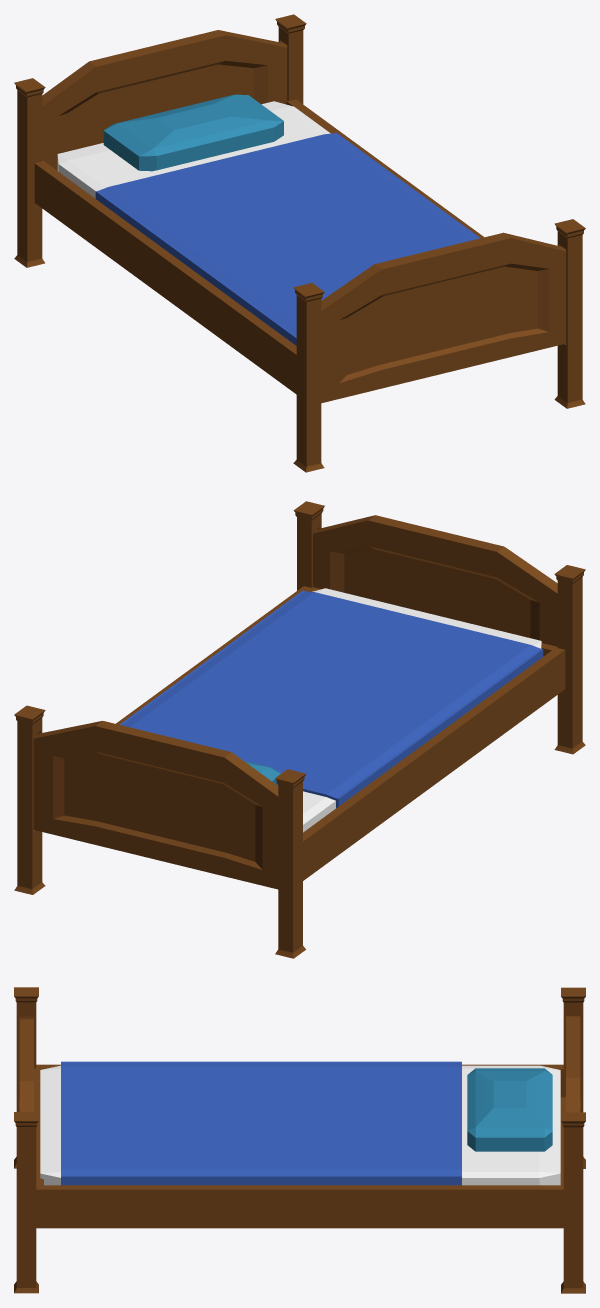
The model's file is SM_Bed_001.fbx.
3 views of the same model, one above another, from view 1: azimuth 30°, elevation 25°; view 2: azimuth 150°, elevation 25°; view 3: azimuth 270°, elevation 25° (orthographic). The views are drawn at different scales.
Visible parts, largest first — view 1: Bed; view 2: Bed; view 3: Bed.
Part boxes in pixels (x1,y1,x2,y2): Bed: [14, 14, 585, 472]; Bed: [14, 501, 585, 958]; Bed: [14, 987, 585, 1293].
Bounding box in the file's own units: 113 × 70 × 204.
